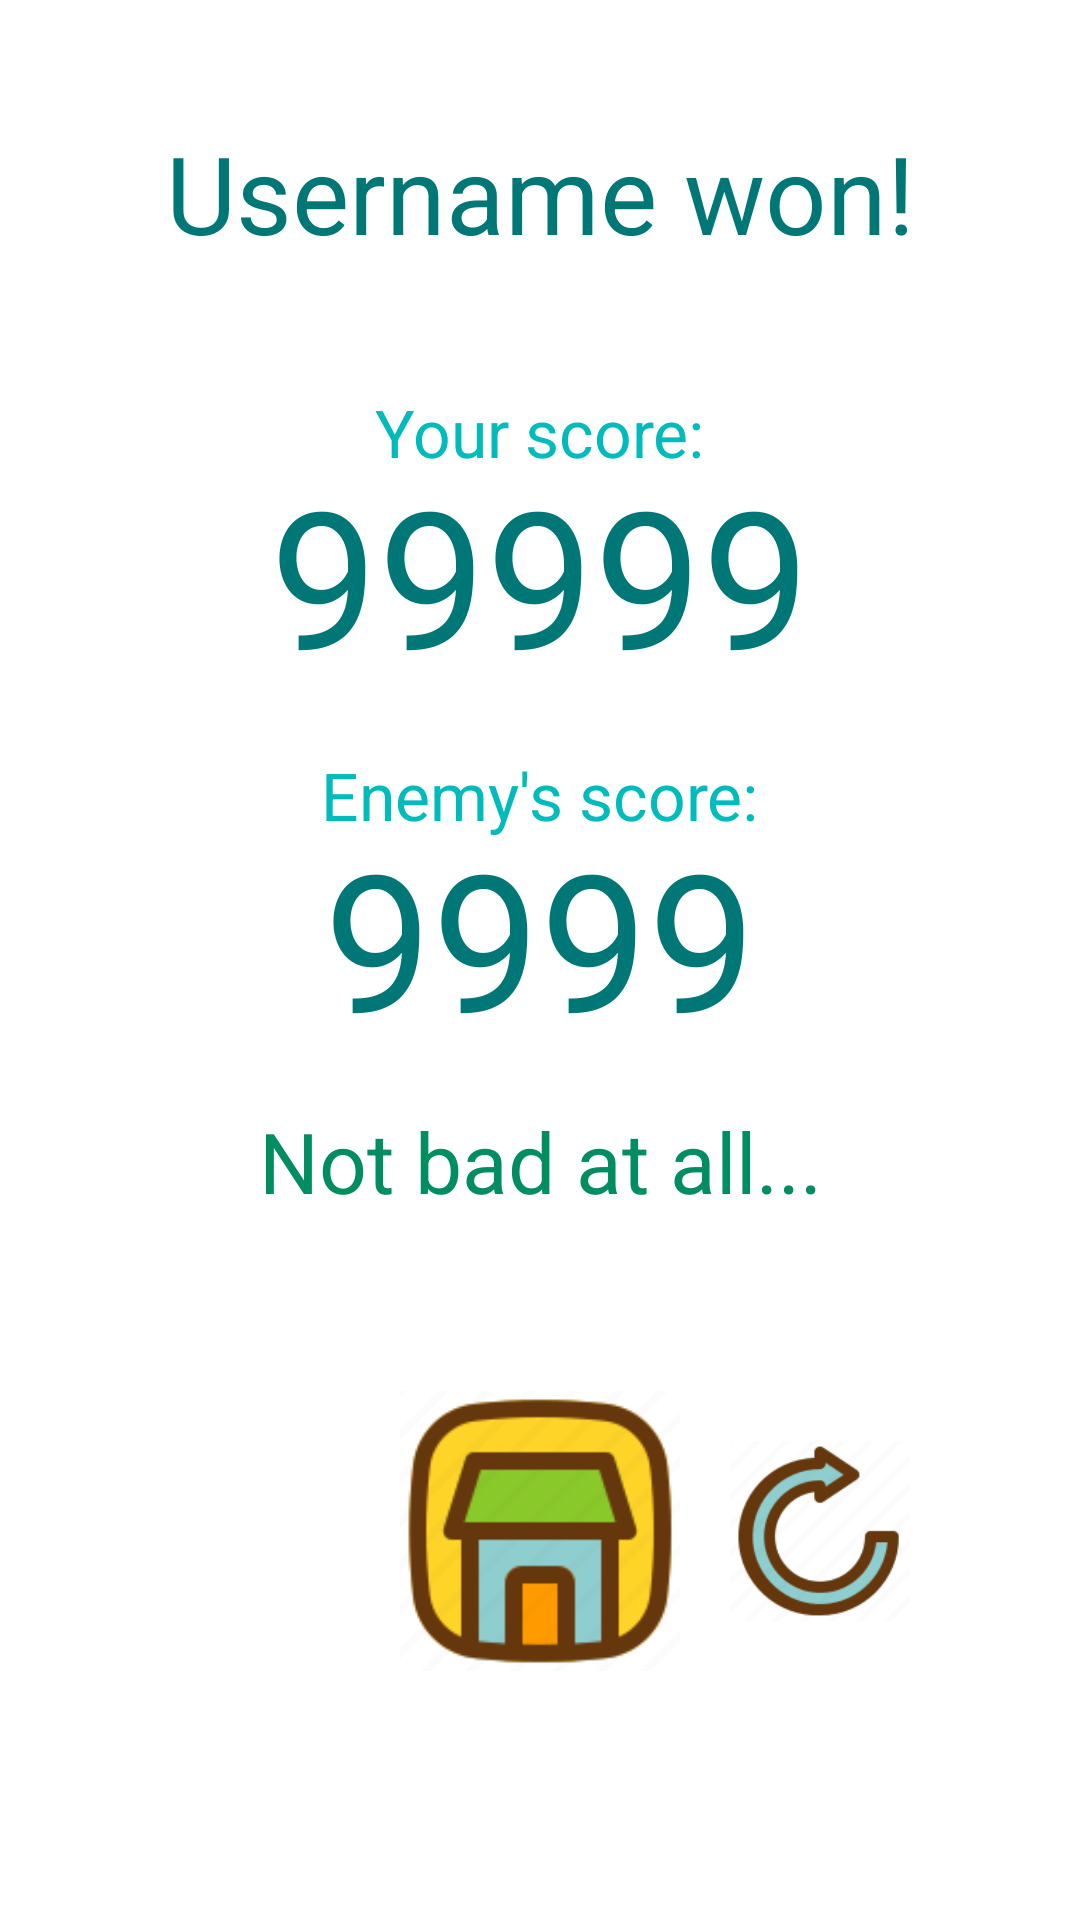

Locate icon controls on the screen. Image size 1080px x 1920px, boxes as (x1, y1, x2, y2).
end game home: (408, 1399, 672, 1663)
end game play again: (738, 1446, 899, 1616)
